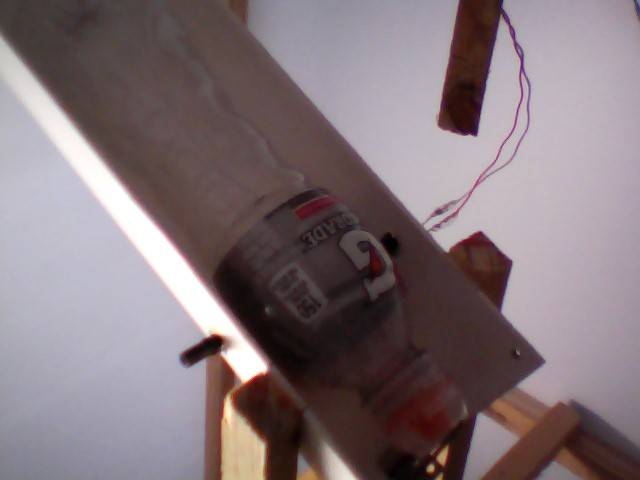plastico: (23, 1, 468, 455)
